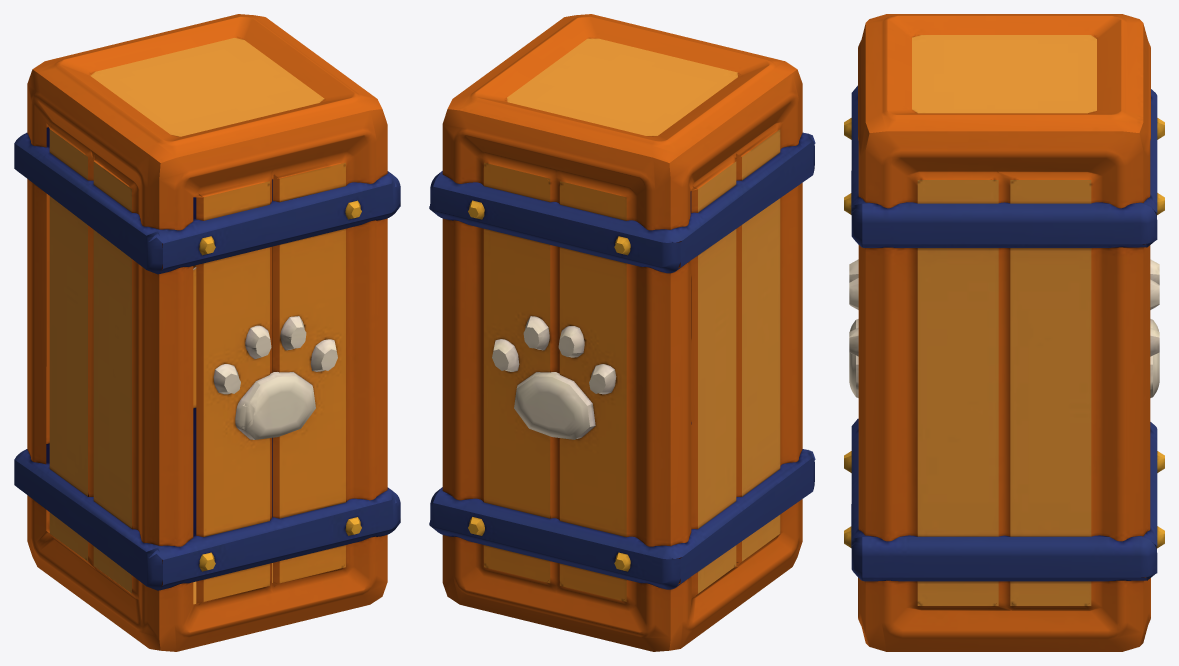
File: pl_direk.glb
3 views of the same model, side by side, from view 1: azimuth 30°, elevation 25°; view 2: azimuth 150°, elevation 25°; view 3: azimuth 270°, elevation 25° (orthographic). The views are drawn at different scales.
Parts seen in each view (by area): view 1: pl_direk; view 2: pl_direk; view 3: pl_direk.
Part boxes in pixels (bbox=[...]): pl_direk: bbox=[14, 14, 400, 651]; pl_direk: bbox=[429, 14, 815, 651]; pl_direk: bbox=[844, 14, 1164, 651].
Size of the model in its own units: 1.6 by 3.09 by 1.68.
Materials: 1 (1 with a texture image).
